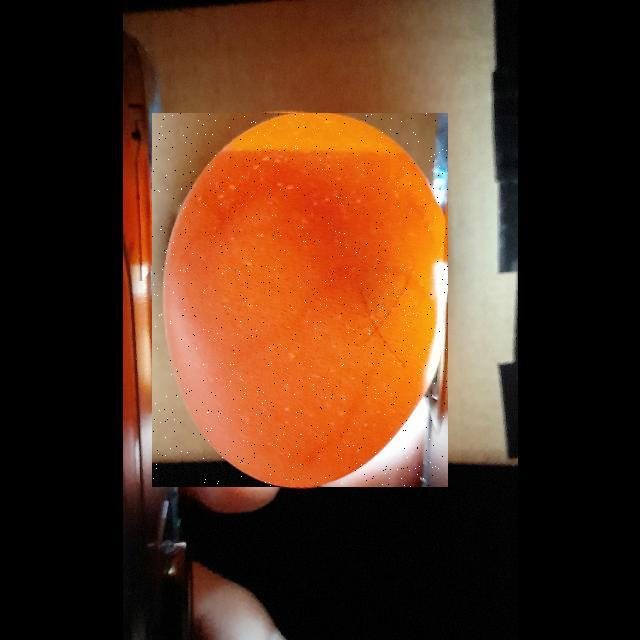Fertile: (152, 113, 448, 487)
